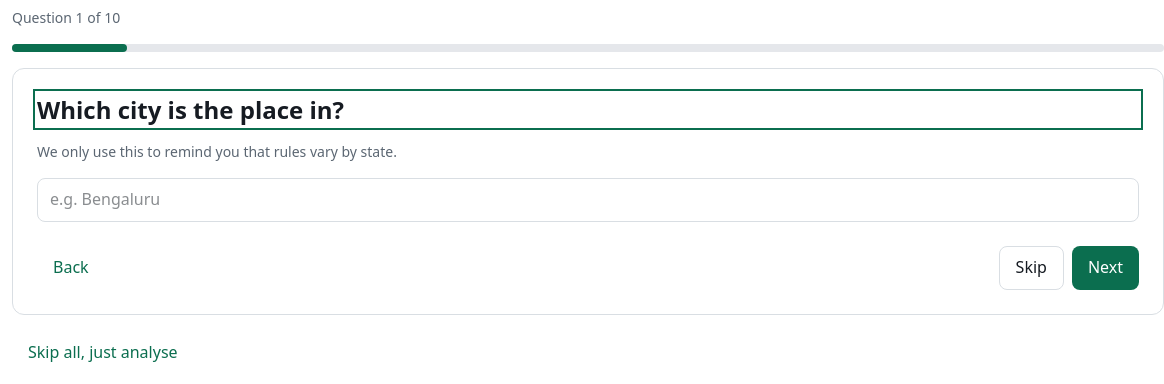
Test: Interview › relates the deposit to the rent in the echo
Click the button "Skip" at (1031, 268), box [999,246,1064,290]
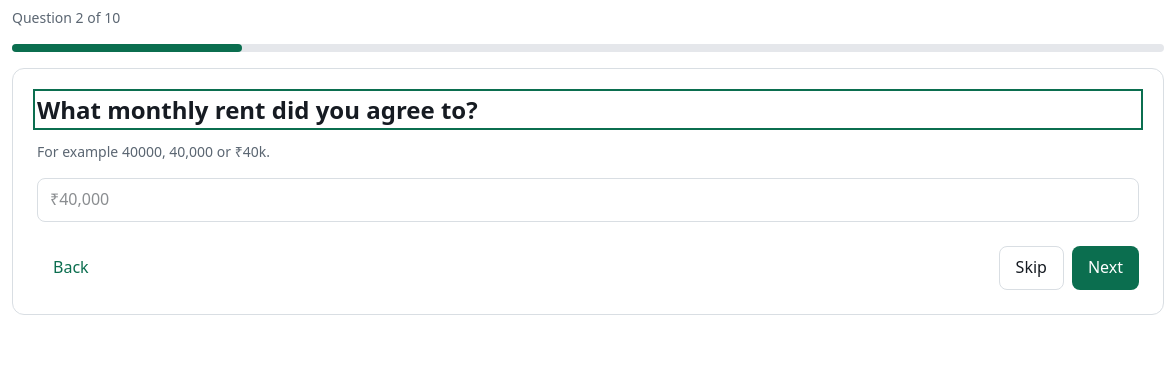
Type "40000" into the field at (588, 200), box [37,178,1139,222]
Then press Enter
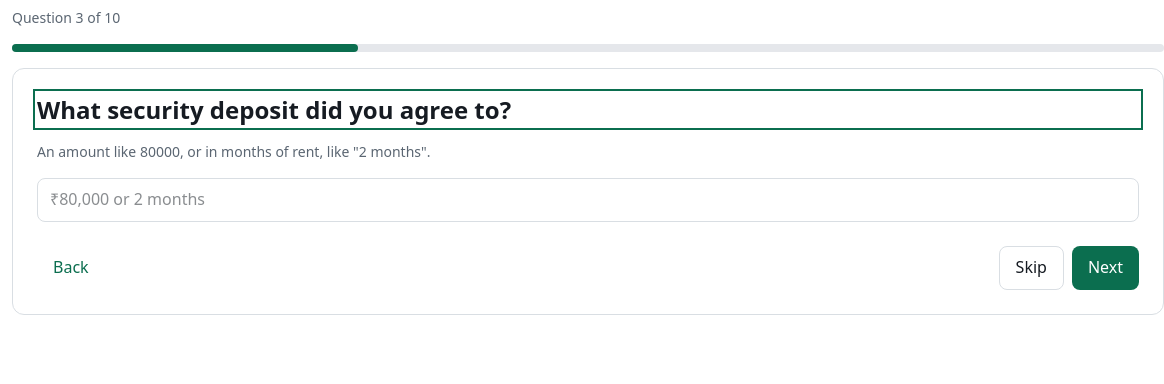
Type "two months" into the field at (588, 200), box [37,178,1139,222]
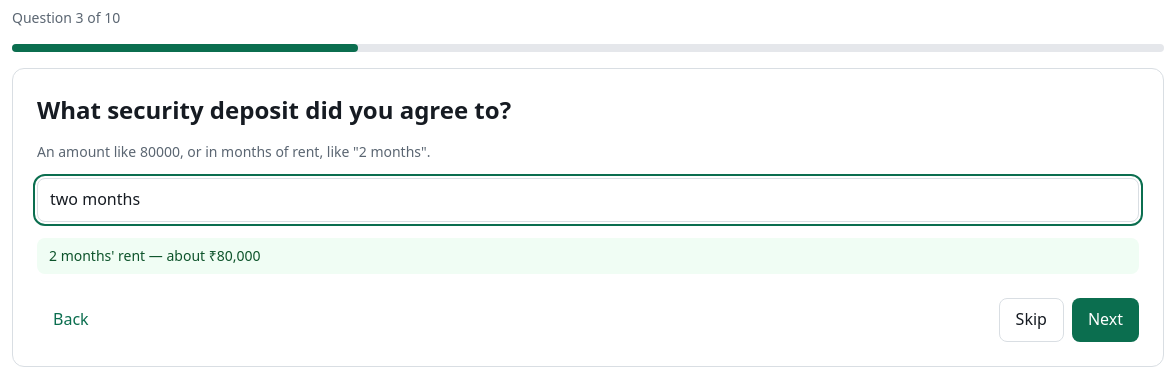
Result: the text "2 months' rent — about ₹80,000" is shown at [37,238,1139,274]
